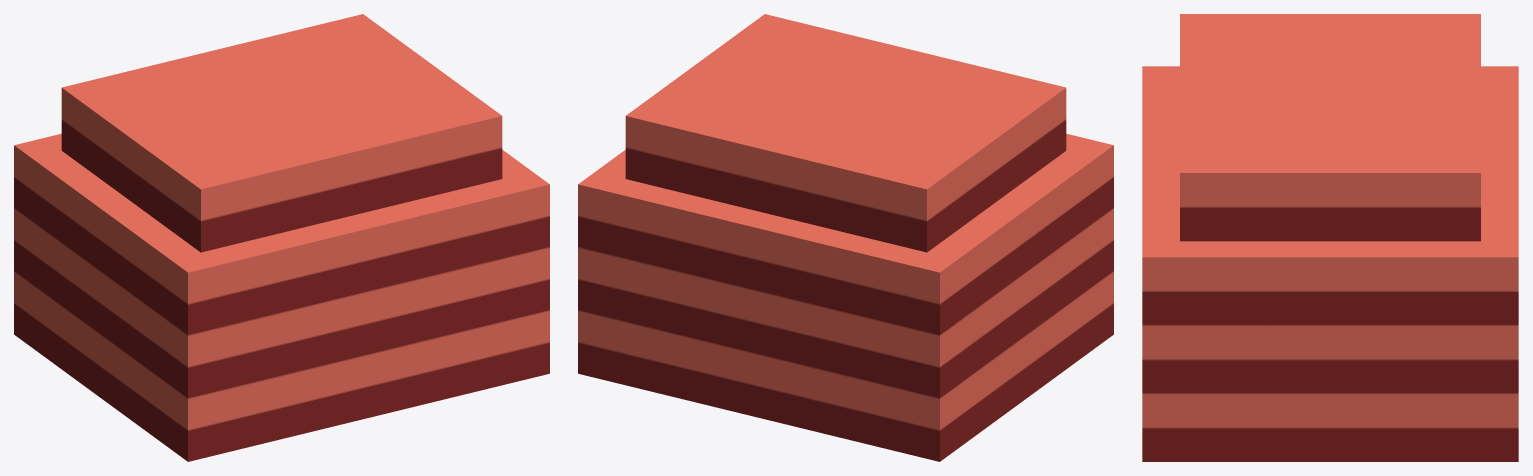
File: Spine031.fbx
3 renders of one model, left to right at view 1: azimuth 30°, elevation 25°; view 2: azimuth 150°, elevation 25°; view 3: azimuth 270°, elevation 25°, orthographic. The views are drawn at different scales.
Visible parts, largest first — view 1: Spine031; view 2: Spine031; view 3: Spine031.
Boxes of the visible parts, x1=… form: Spine031: x1=14, y1=14, x2=549, y2=461; Spine031: x1=578, y1=14, x2=1113, y2=461; Spine031: x1=1142, y1=14, x2=1518, y2=461.
Bounding box in the file's own units: 12 × 8 × 10.
